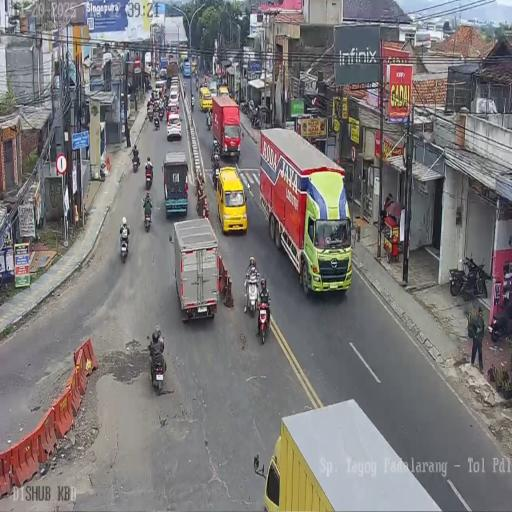3: (256, 128, 345, 298), (173, 219, 221, 323), (211, 94, 242, 162), (162, 151, 189, 220), (144, 51, 152, 74), (179, 52, 188, 72)
car: (216, 166, 248, 236), (166, 114, 182, 142), (199, 88, 212, 112), (168, 88, 179, 108), (218, 86, 230, 98), (153, 85, 162, 100), (159, 67, 167, 79), (192, 60, 198, 74)
truck: (449, 253, 490, 300), (490, 296, 512, 342), (148, 341, 166, 394), (255, 294, 271, 344), (244, 271, 259, 316), (119, 226, 130, 262), (212, 158, 220, 189), (143, 205, 152, 232), (250, 106, 260, 129), (132, 152, 140, 173), (145, 166, 152, 190), (240, 99, 250, 115), (158, 103, 165, 121), (206, 110, 212, 130), (147, 105, 154, 122), (154, 112, 160, 130), (191, 94, 195, 112), (195, 77, 198, 90)
